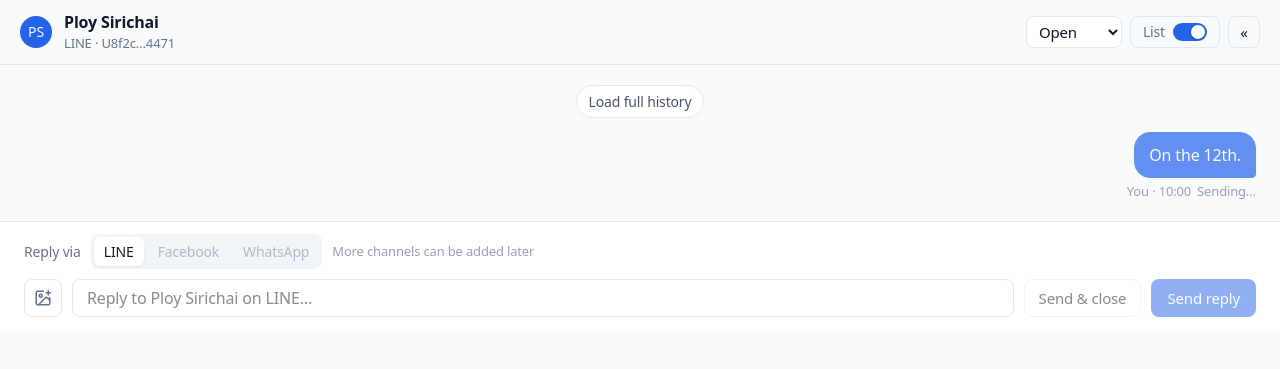
Scenario: paging (D-026) › surfaces a failed page load without dropping the loaded messages
Click the button "Load full history" at {"x": 640, "y": 101}, box [576,84,704,118]
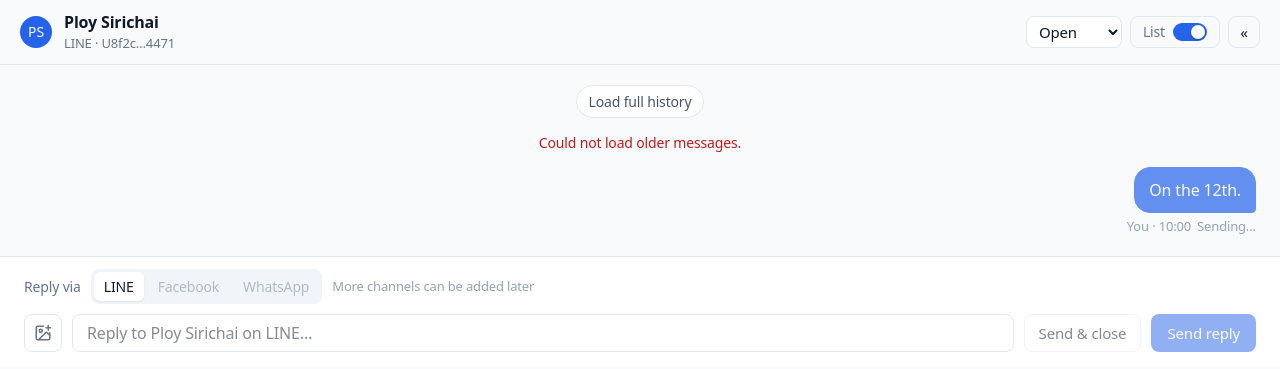
Expected: the number of elements with test id "message-bubble" is 1, [1127,166,1256,236]
Now the message reads "Could not load older messages.", box [539,132,741,152]
